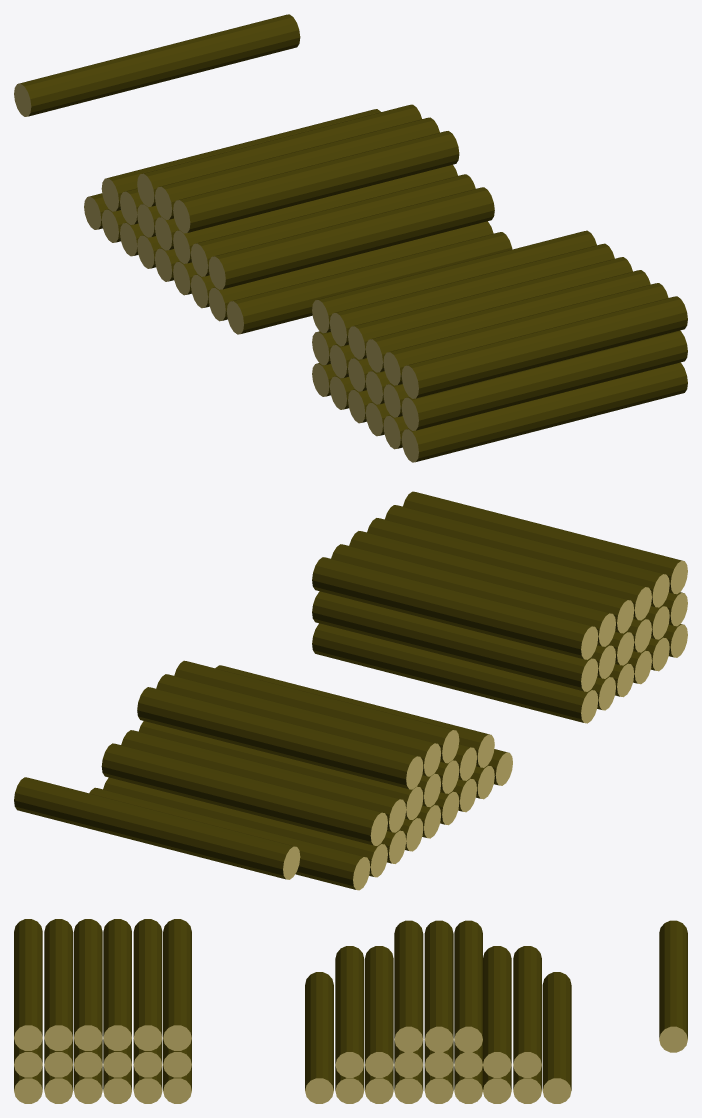
File: Logfbx.fbx
3 views of the same model, one above another, from view 1: azimuth 30°, elevation 25°; view 2: azimuth 150°, elevation 25°; view 3: azimuth 270°, elevation 25° (orthographic). The views are drawn at different scales.
Parts seen in each view (by area): view 1: Cylinder.012, Cylinder.004, Cylinder.025; view 2: Cylinder.012, Cylinder.004, Cylinder.025; view 3: Cylinder.004, Cylinder.012, Cylinder.025.
Part boxes in pixels (box(x1,y1,x2,y2)): Cylinder.012: box(312, 230, 687, 462); Cylinder.004: box(84, 104, 512, 334); Cylinder.025: box(14, 14, 300, 116); Cylinder.012: box(312, 491, 687, 723); Cylinder.004: box(89, 660, 512, 890); Cylinder.025: box(14, 777, 300, 879); Cylinder.004: box(305, 920, 571, 1103); Cylinder.012: box(14, 919, 191, 1103); Cylinder.025: box(659, 920, 687, 1052).
Size of the model in its own units: 758 by 264 by 1973.
